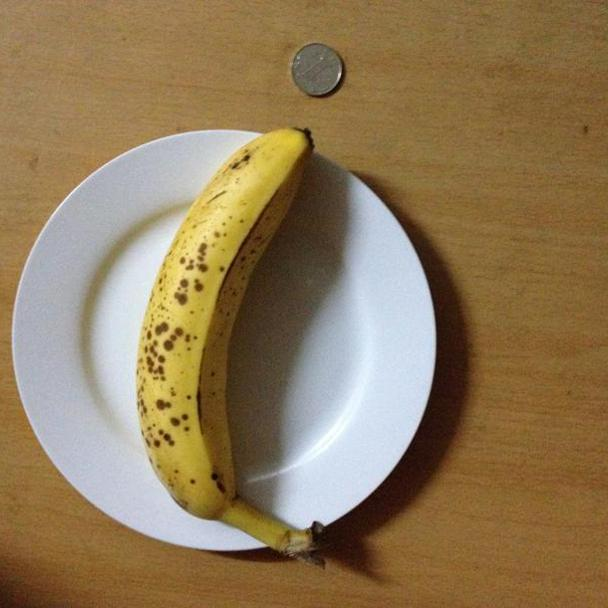banana: (149, 128, 337, 556)
